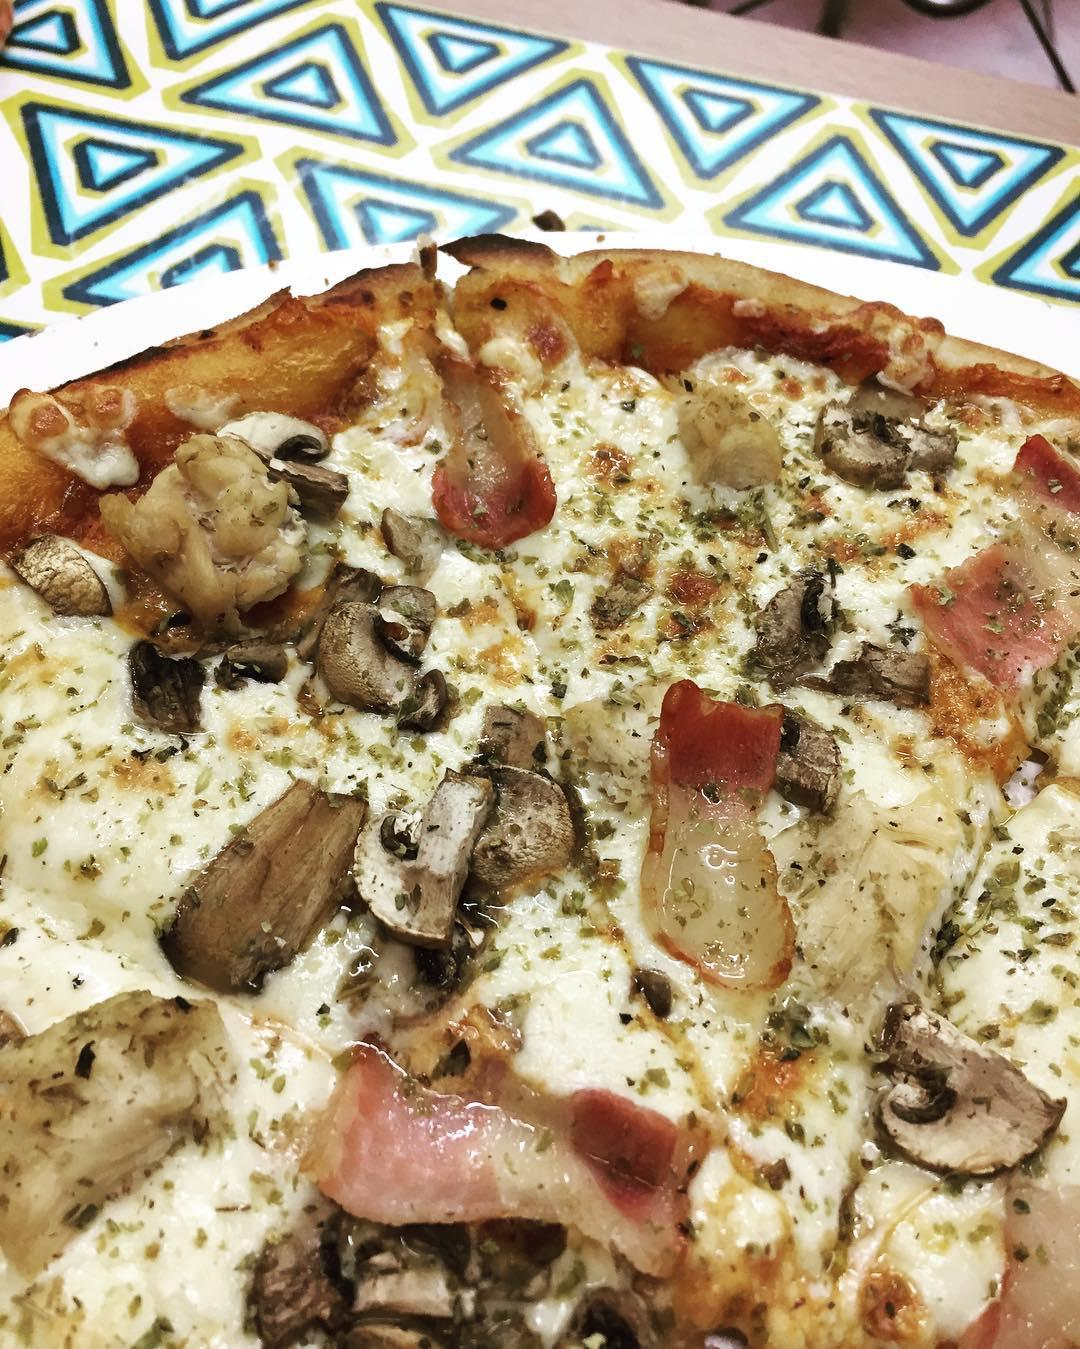Chicken: (0, 967, 247, 1265), (100, 422, 306, 629), (667, 380, 790, 499)
Ham: (309, 1040, 689, 1262), (423, 354, 562, 547), (908, 549, 1066, 687), (15, 376, 204, 482), (651, 681, 782, 790), (1001, 431, 1080, 524)
Mushroom: (155, 778, 371, 991), (236, 1211, 592, 1340), (368, 756, 585, 937), (876, 1018, 1060, 1190), (303, 575, 441, 714), (811, 391, 961, 499), (738, 549, 832, 679)
Pizza: (9, 248, 1080, 1349)
